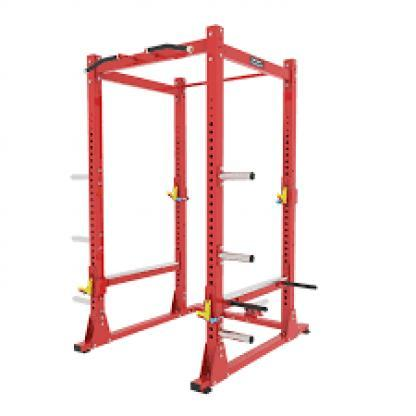smith machine: (72, 25, 318, 394)
